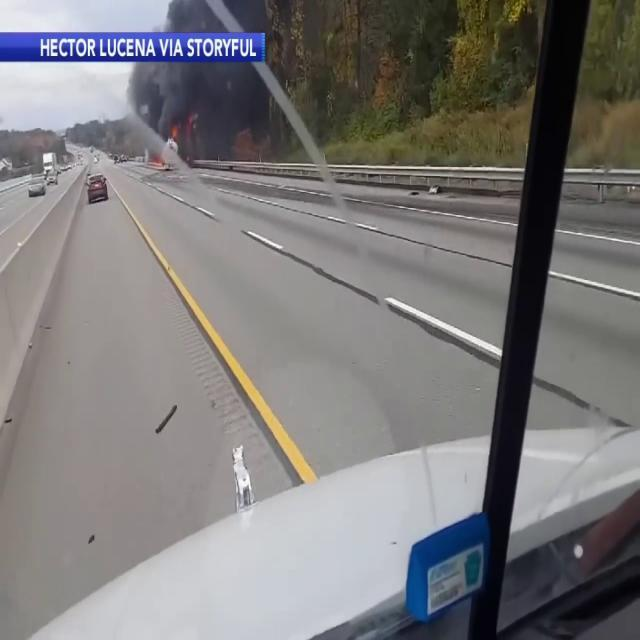Smoke: (124, 0, 270, 151)
